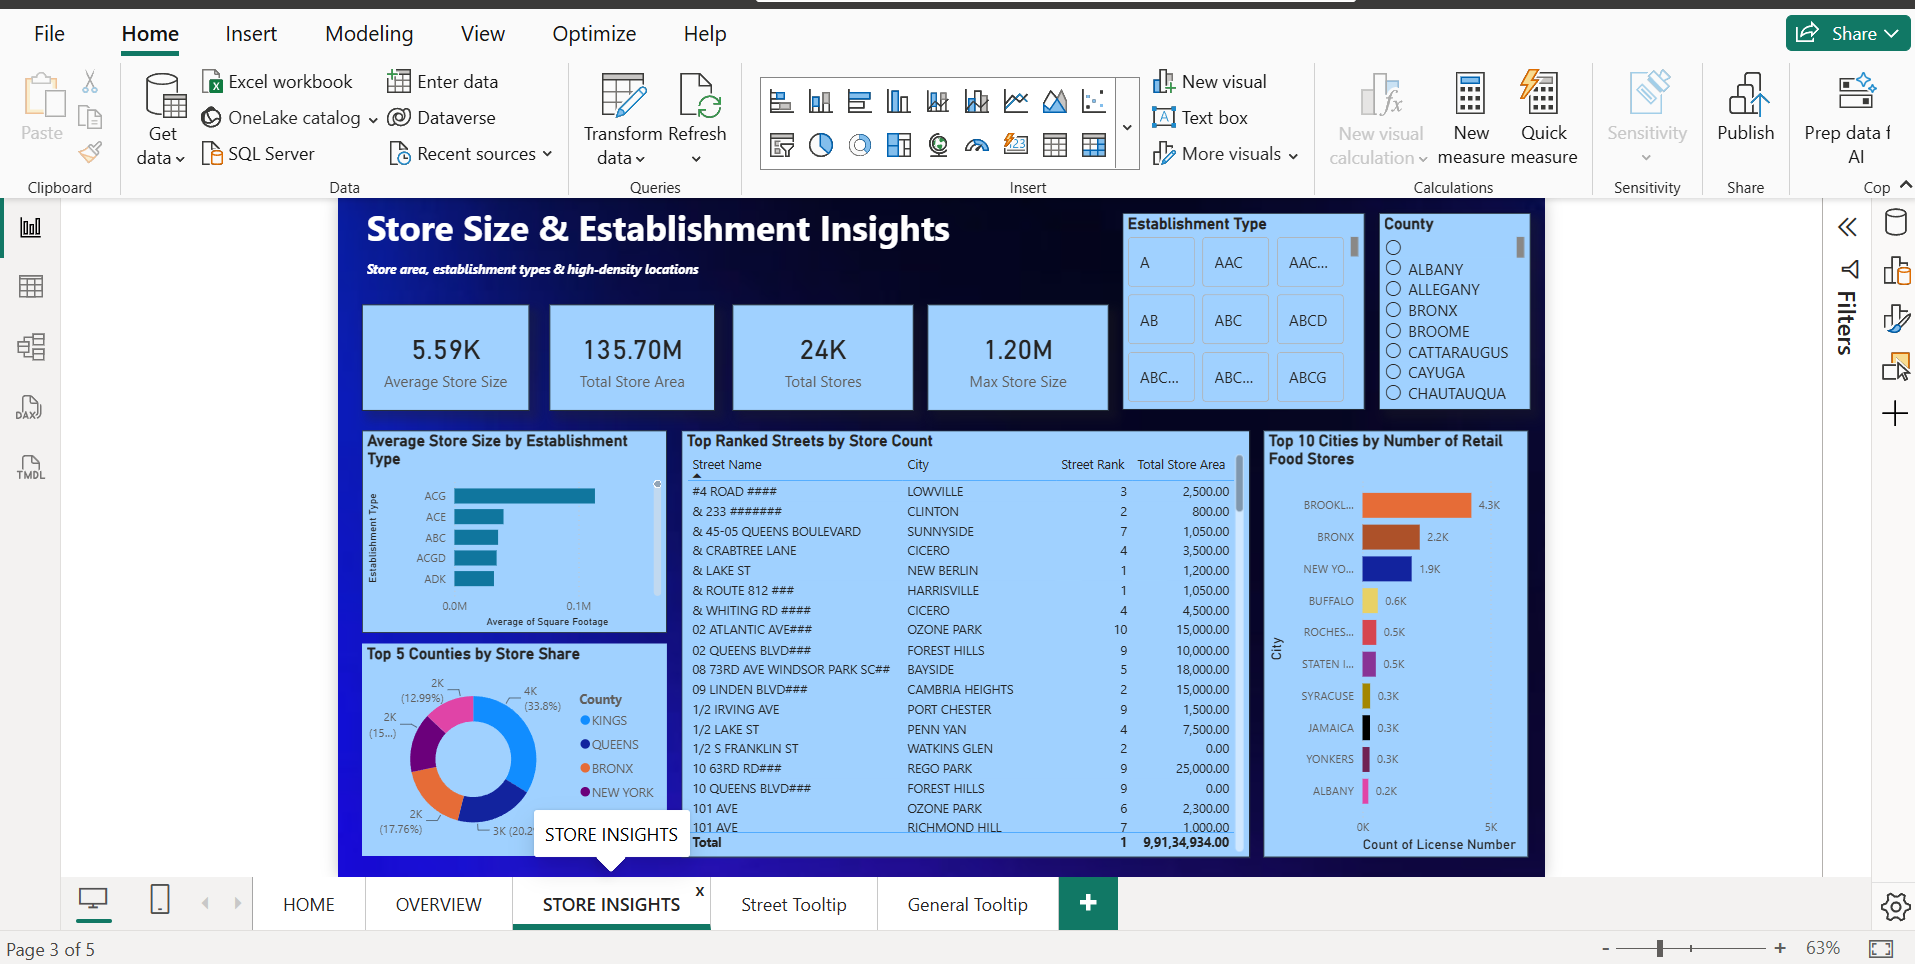

The dashboard page shown, as its layout file describes it:
{"tool":"powerbi","page":{"name":"STORE INSIGHTS","canvas":[1280,720],"ordinal":2},"visuals":[{"type":"clusteredBarChart","title":"Top 10 Cities by Number of Retail Food Stores","fields":{"Category":["Retail_Food_Stores.City"],"Y":["CountNonNull(Retail_Food_Stores.License Number)"]},"box":[981.3,245.8,280.9,452.7],"z":0},{"type":"card","fields":{"Values":["Retail_Food_Stores.Total Stores"]},"box":[417.6,112.7,192.2,112.7],"z":1000},{"type":"card","fields":{"Values":["Retail_Food_Stores.Average Store Size"]},"box":[25.9,112.7,177.4,112.7],"z":2000},{"type":"card","fields":{"Values":["Retail_Food_Stores.Total Store Area"]},"box":[223.6,112.7,175.6,112.7],"z":3000},{"type":"card","fields":{"Values":["Retail_Food_Stores.Max Store Size"]},"box":[624.6,112.7,192.2,112.7],"z":4000},{"type":"donutChart","title":"Top 5 Counties by Store Share","fields":{"Category":["Retail_Food_Stores.County"],"Y":["Retail_Food_Stores.Total Stores"]},"box":[25.9,473.1,323.4,225.5],"z":5000},{"type":"tableEx","title":"Top Ranked Streets by Store Count","fields":{"Values":["Retail_Food_Stores.Street Name","Retail_Food_Stores.City","Retail_Food_Stores.Street Rank","Retail_Food_Stores.Total Store Area"]},"box":[364,245.8,602.4,452.7],"z":6000},{"type":"clusteredBarChart","title":"Average Store Size by Establishment Type","fields":{"Category":["Retail_Food_Stores.Establishment Type"],"Y":["Avg(Retail_Food_Stores.Square Footage)"]},"box":[25.9,245.8,323.4,214.4],"z":7000},{"type":"advancedSlicerVisual","fields":{"Values":["Retail_Food_Stores.Establishment Type"]},"box":[831.6,16.6,256.9,208.8],"z":8000},{"type":"listSlicer","fields":{"Values":["Retail_Food_Stores.County"]},"box":[1103.2,16.6,160.8,208.8],"z":9000},{"type":"textbox","box":[25.9,0,633.8,61],"z":9001},{"type":"textbox","box":[25.9,61,633.8,33.3],"z":9002}]}

Visuals, with their boxes on the page's 1280x720 design canvas (x1, y1, x2, y2). These are canvas units, not pixel positions in the 1915x964 screenshot, which may show the page scaled, cropped or inside an application window:
"Top 10 Cities by Number of Retail Food Stores" clusteredBarChart: l=981, t=246, r=1262, b=698
card - Retail_Food_Stores.Total Stores: l=418, t=113, r=610, b=225
card - Retail_Food_Stores.Average Store Size: l=26, t=113, r=203, b=225
card - Retail_Food_Stores.Total Store Area: l=224, t=113, r=399, b=225
card - Retail_Food_Stores.Max Store Size: l=625, t=113, r=817, b=225
"Top 5 Counties by Store Share" donutChart: l=26, t=473, r=349, b=699
"Top Ranked Streets by Store Count" tableEx: l=364, t=246, r=966, b=698
"Average Store Size by Establishment Type" clusteredBarChart: l=26, t=246, r=349, b=460
advancedSlicerVisual - Retail_Food_Stores.Establishment Type: l=832, t=17, r=1088, b=225
listSlicer - Retail_Food_Stores.County: l=1103, t=17, r=1264, b=225
textbox: l=26, t=0, r=660, b=61
textbox: l=26, t=61, r=660, b=94
